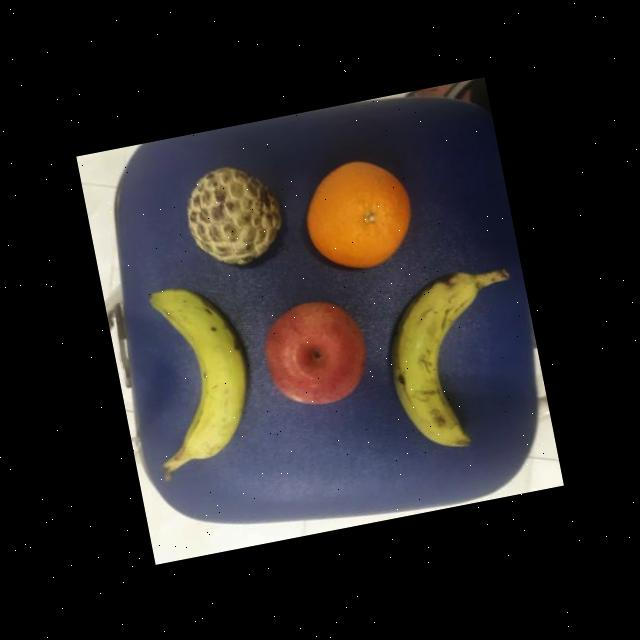Sakya fruit: (176, 156, 292, 274)
apple: (256, 291, 376, 414)
banana: (371, 264, 512, 458), (142, 272, 263, 466)
orange: (295, 150, 423, 280)
